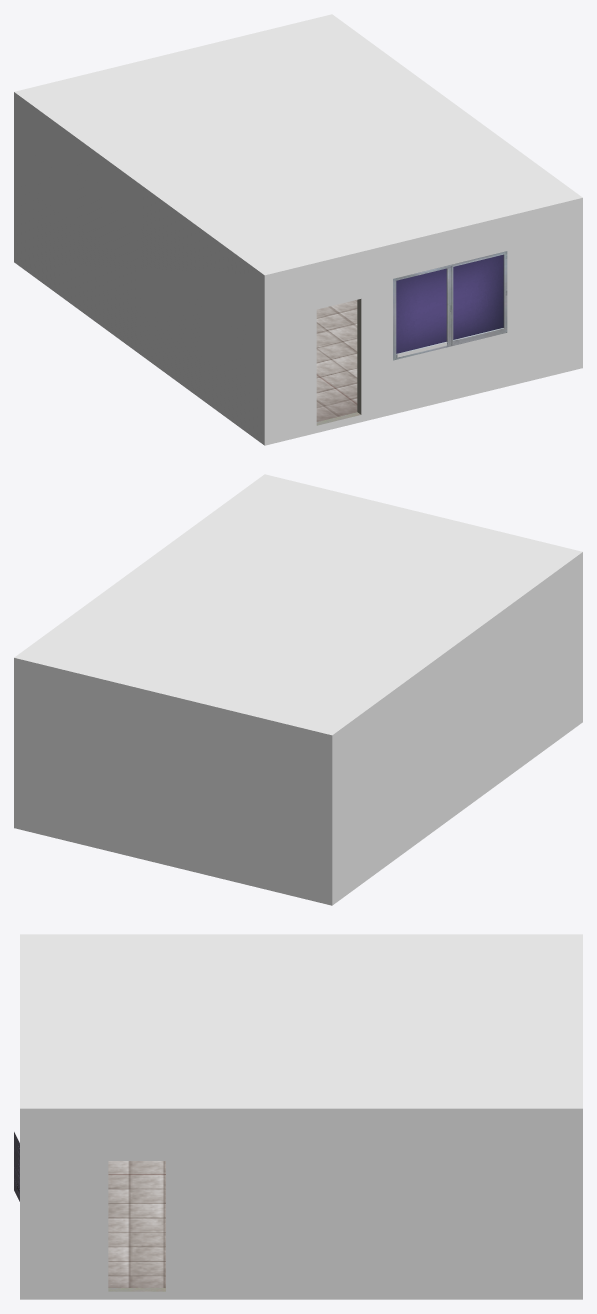
Rendered from MainRoom.glb.
3 views of the same model, one above another, from view 1: azimuth 30°, elevation 25°; view 2: azimuth 150°, elevation 25°; view 3: azimuth 270°, elevation 25° (orthographic). The views are drawn at different scales.
Visible parts, largest first — view 1: Plane, Plane.001, Plane.002; view 2: Plane; view 3: Plane.
Part boxes in pixels (x1,y1,x2,y2): Plane: (14, 14, 582, 445); Plane.001: (396, 254, 503, 353); Plane.002: (393, 251, 507, 360); Plane: (14, 474, 582, 905); Plane: (20, 934, 582, 1299).
Size of the model in its own units: 5.72 by 2.93 by 7.89.
2 materials, 2 textured.
